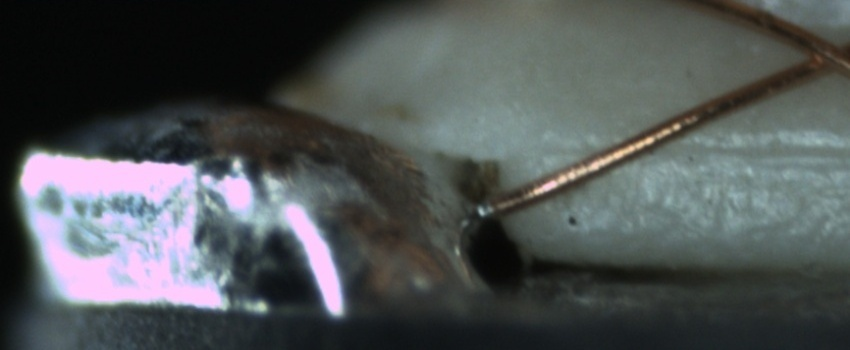CL: (778, 25, 848, 85)
DL: (545, 117, 849, 182)
TS: (471, 201, 493, 219)
